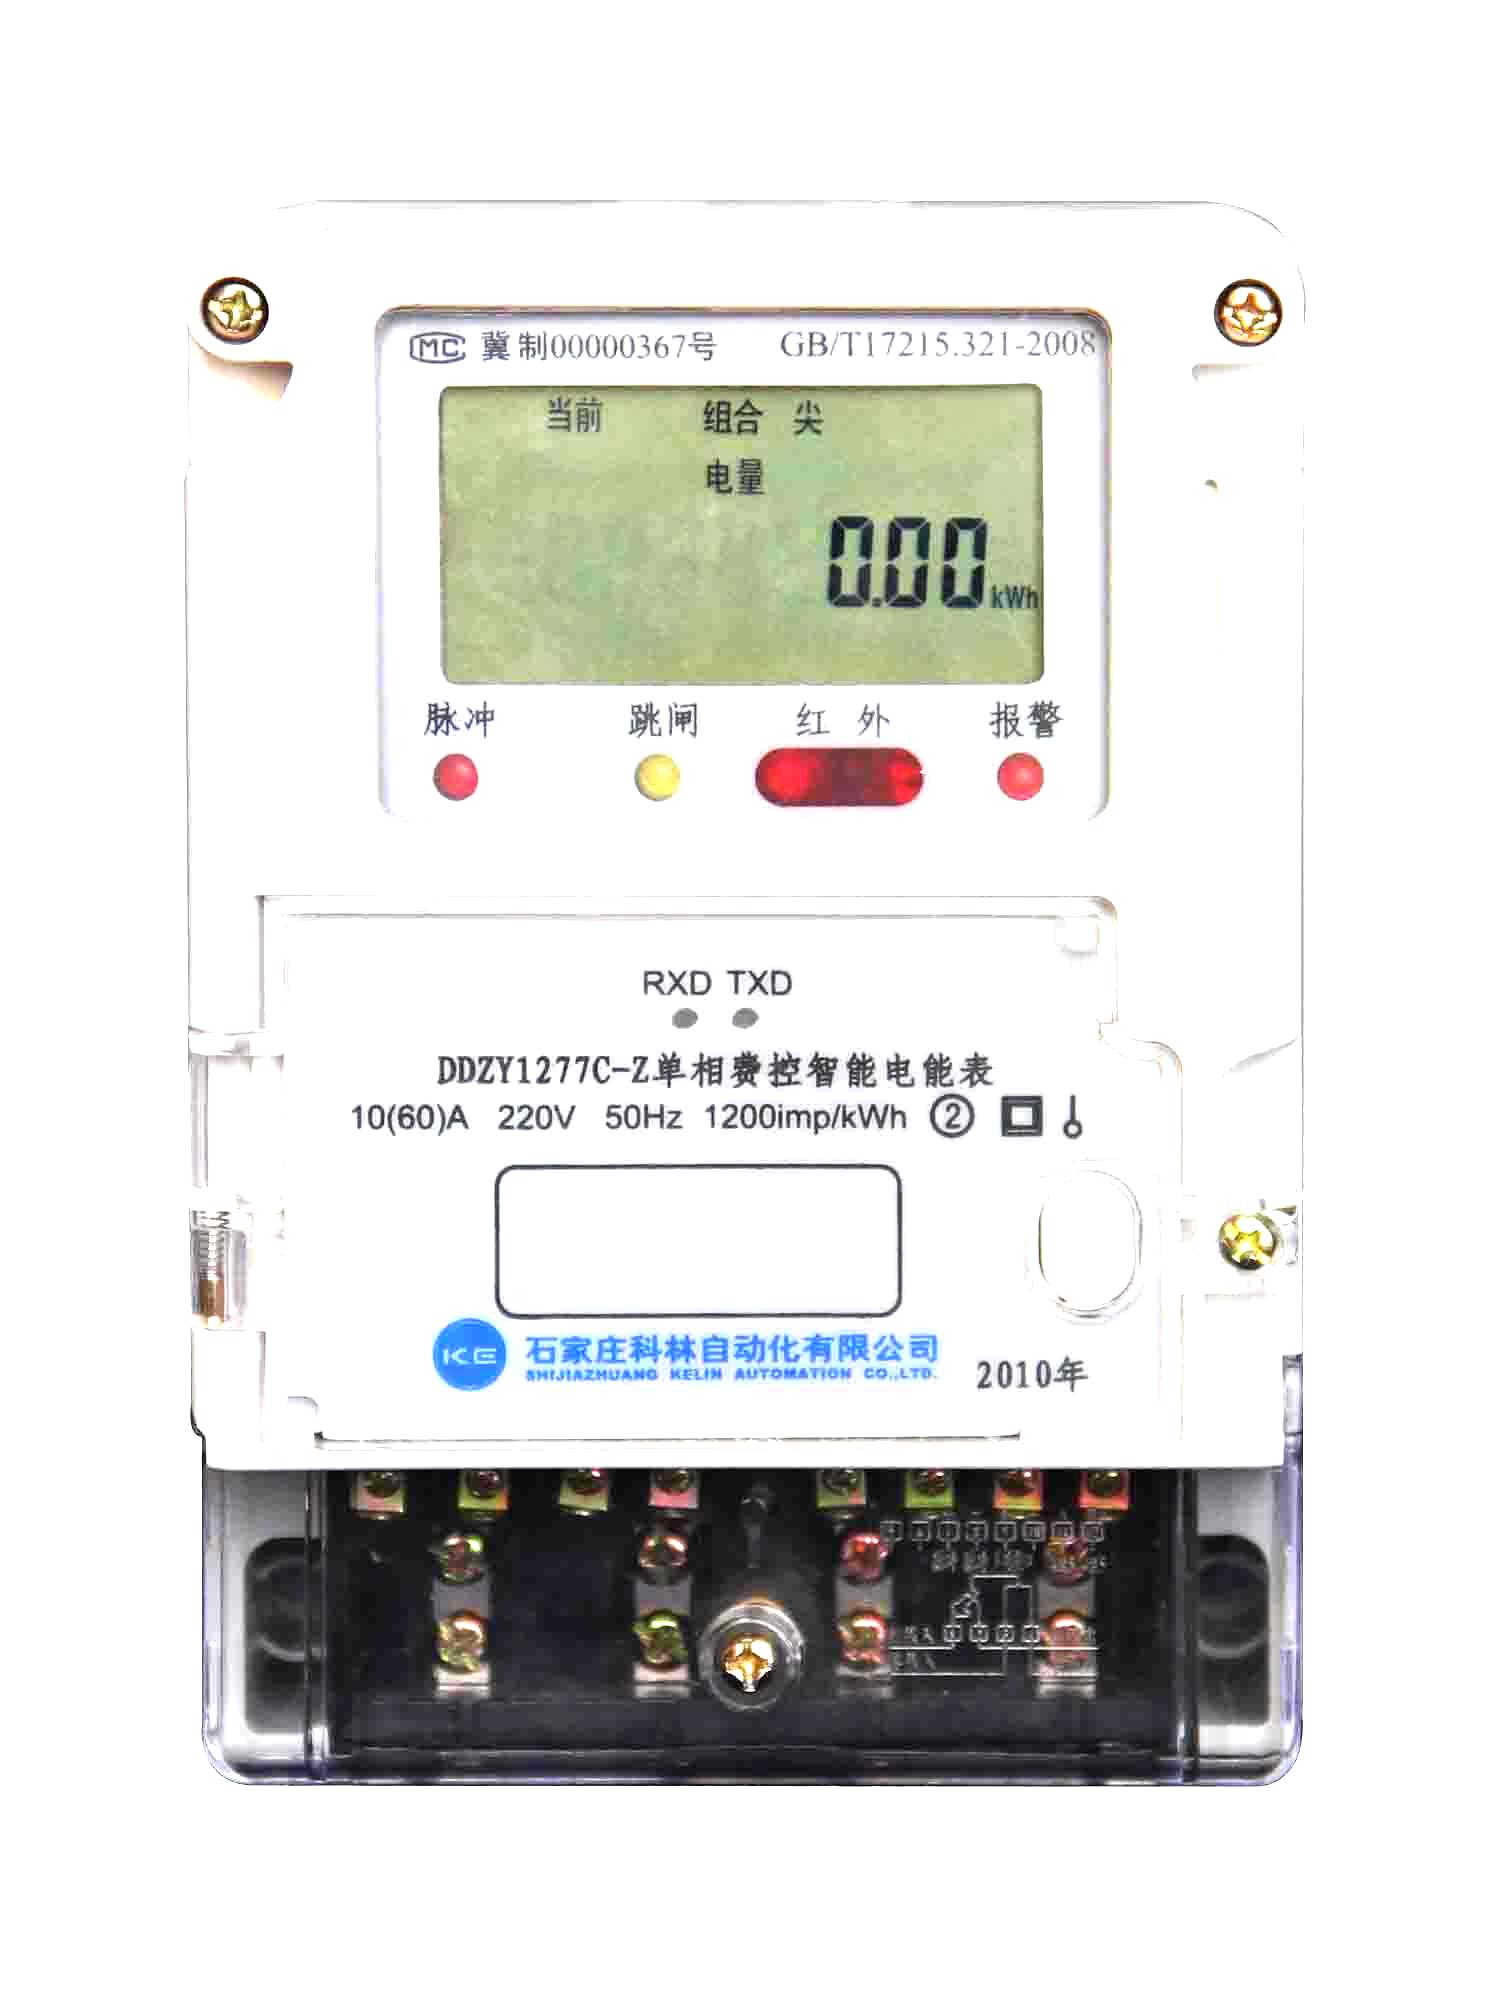digital: (186, 187, 1292, 1473)
